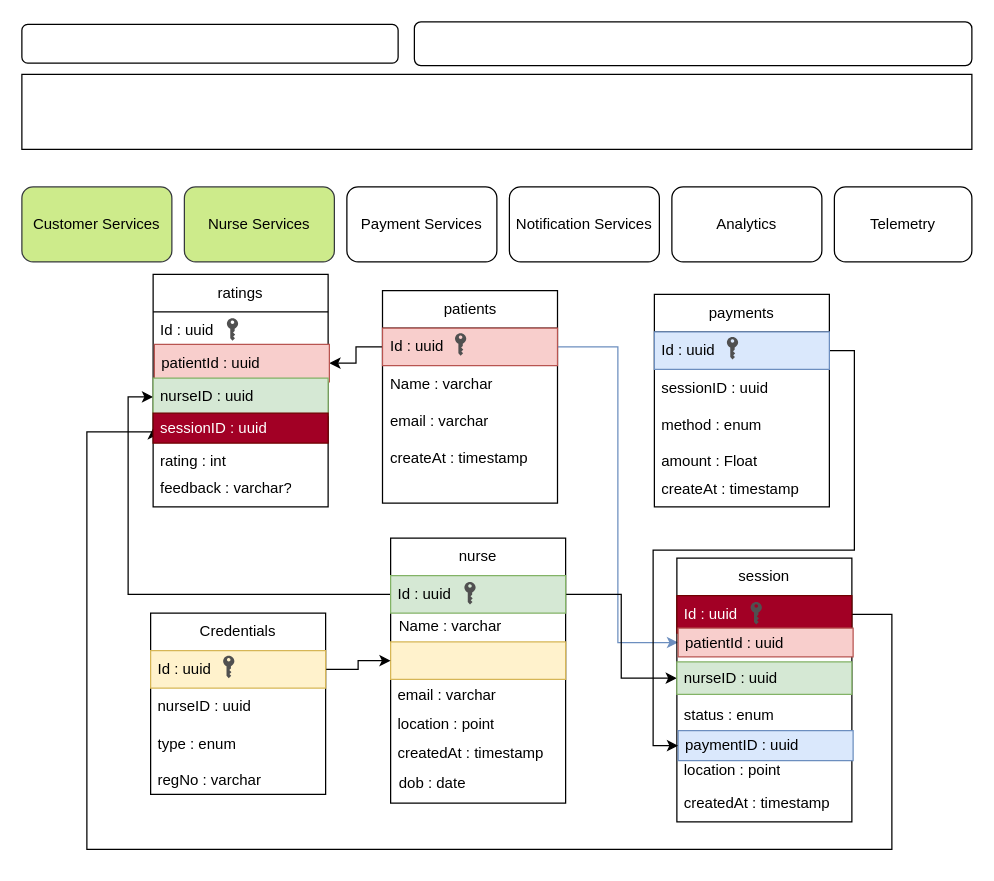
Image size: 994x881. Some labels were removed from this diagram. The centre of each missing label's shape, as x and y in pixels:
"API-GateWay to Services" belongs at point (496, 111).
"credentialsID : uuid" belongs at point (477, 660).
"Mobile App" belongs at point (209, 43).
"Website" belongs at point (692, 43).
